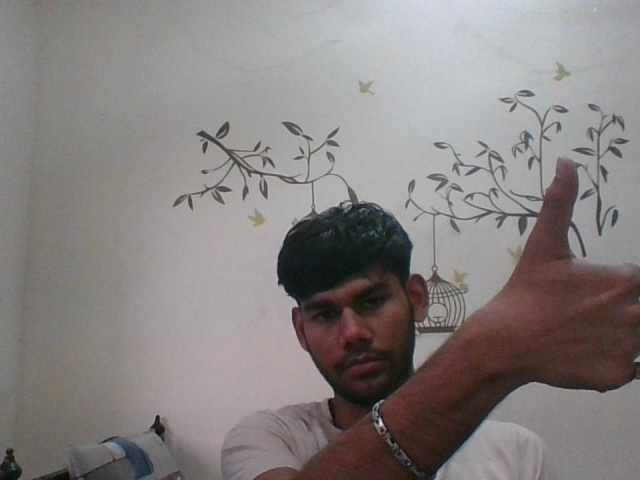Yes: (462, 165, 640, 413)
